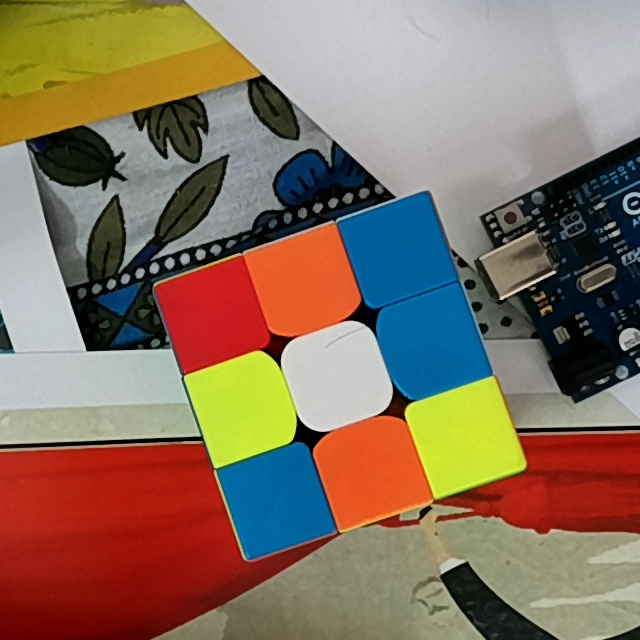tile: (396, 305, 469, 381), (335, 431, 407, 506), (302, 338, 376, 410), (365, 212, 438, 284), (430, 401, 501, 474), (266, 246, 340, 316), (211, 368, 280, 441), (242, 463, 312, 534), (181, 276, 246, 351)
